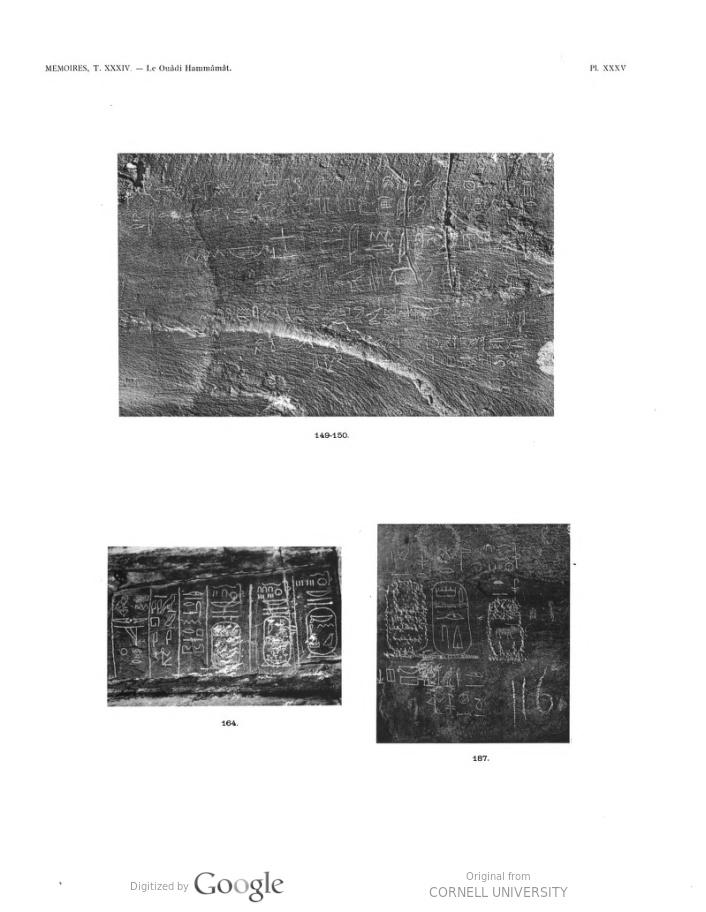circle: (481, 587, 529, 684), (426, 572, 472, 671), (383, 576, 431, 665), (249, 607, 293, 683), (297, 598, 340, 667), (203, 615, 244, 679)
